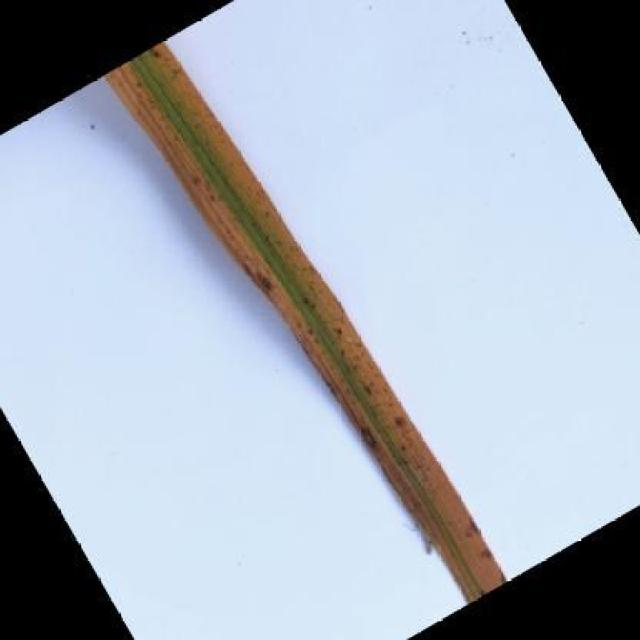Rice False Smut: (98, 22, 517, 633)
